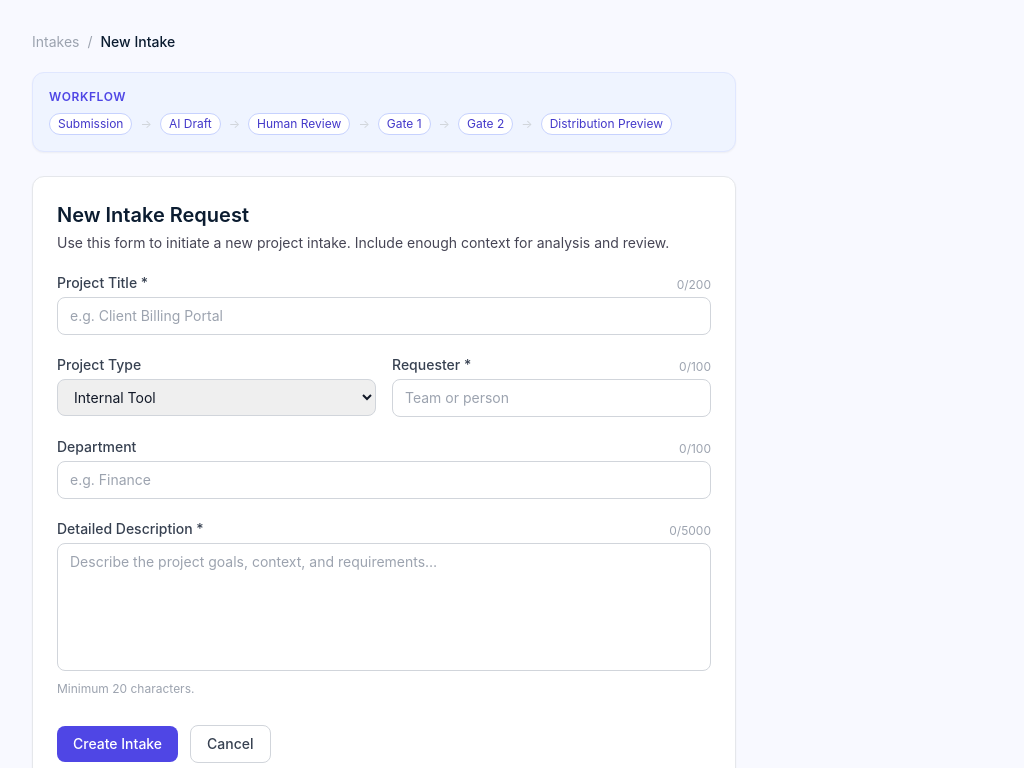
Test: NewIntakePage validation › shows a live character counter for the title field
The image size is (1024, 768).
Type "Test project" into the field labelled "Project Title *".
click(384, 316); type("Test project")  # box [57, 297, 711, 335]
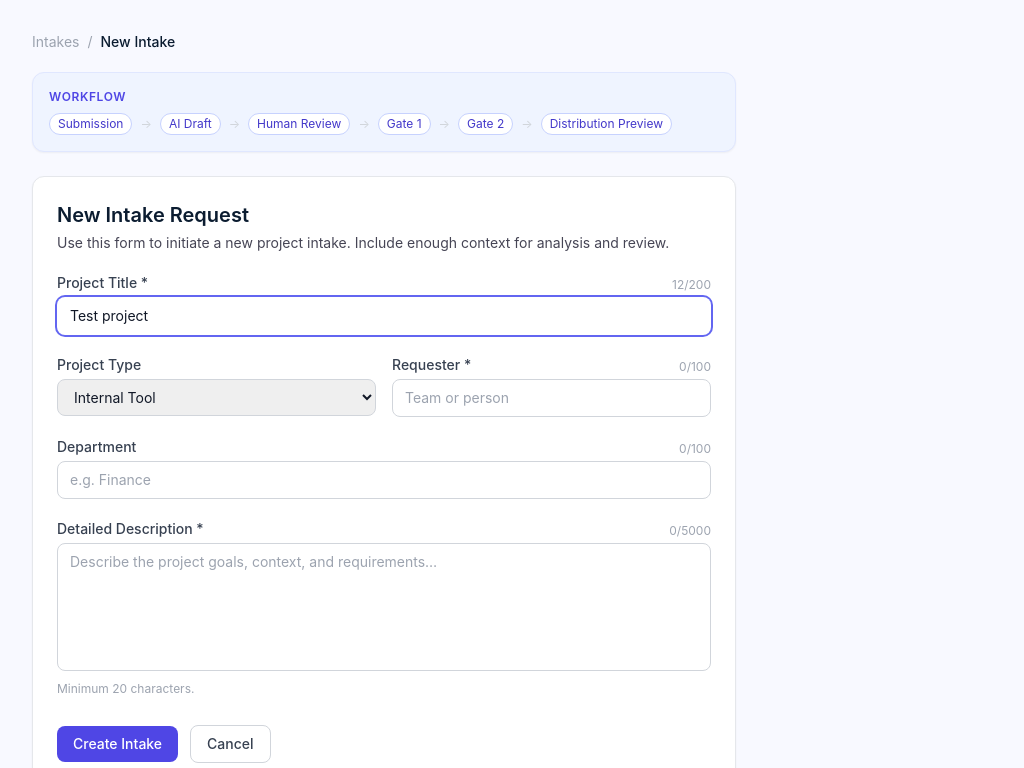
Now the text "12/200" is shown, box [672, 277, 711, 293]
